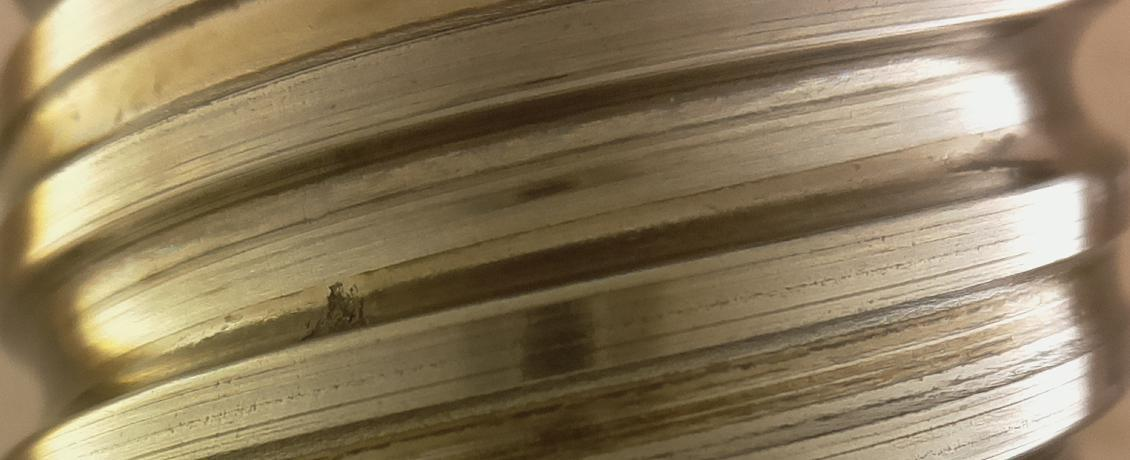pitting: (324, 281, 365, 329), (302, 329, 315, 341)
